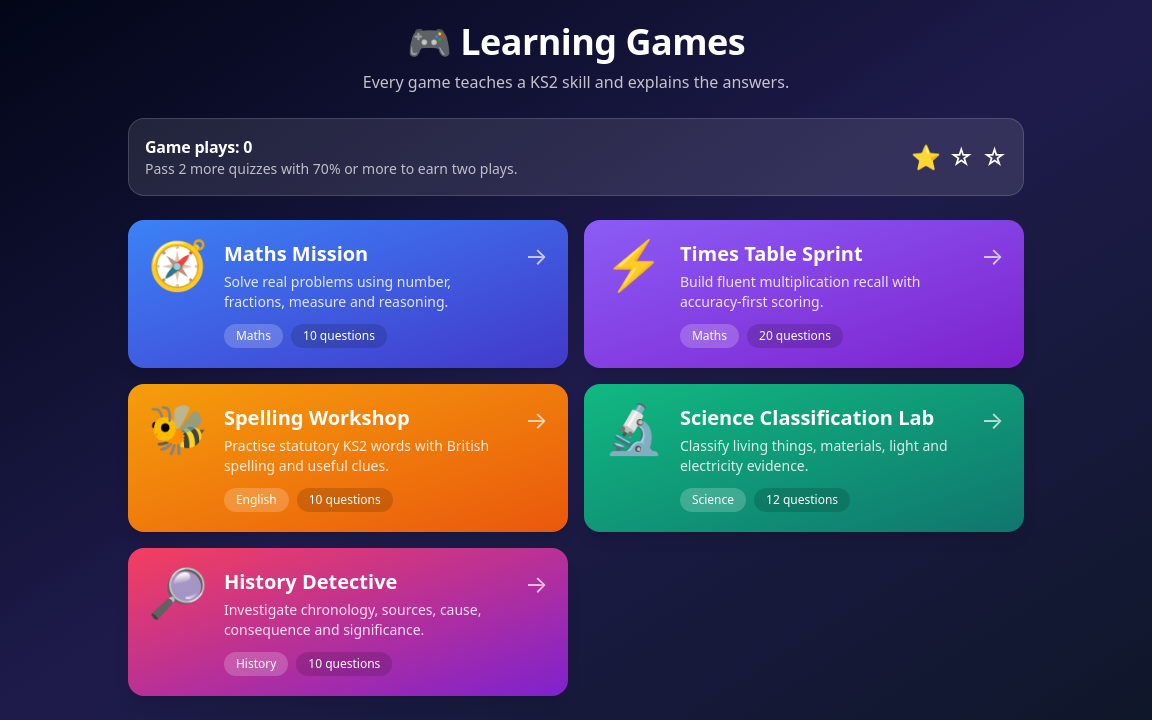
Test: MiniGames › lets locked learners inspect games but disables starting them
(page scrolled)
Click the button with aria-label "History Detective, History": point(348, 622) [128, 548, 568, 696]
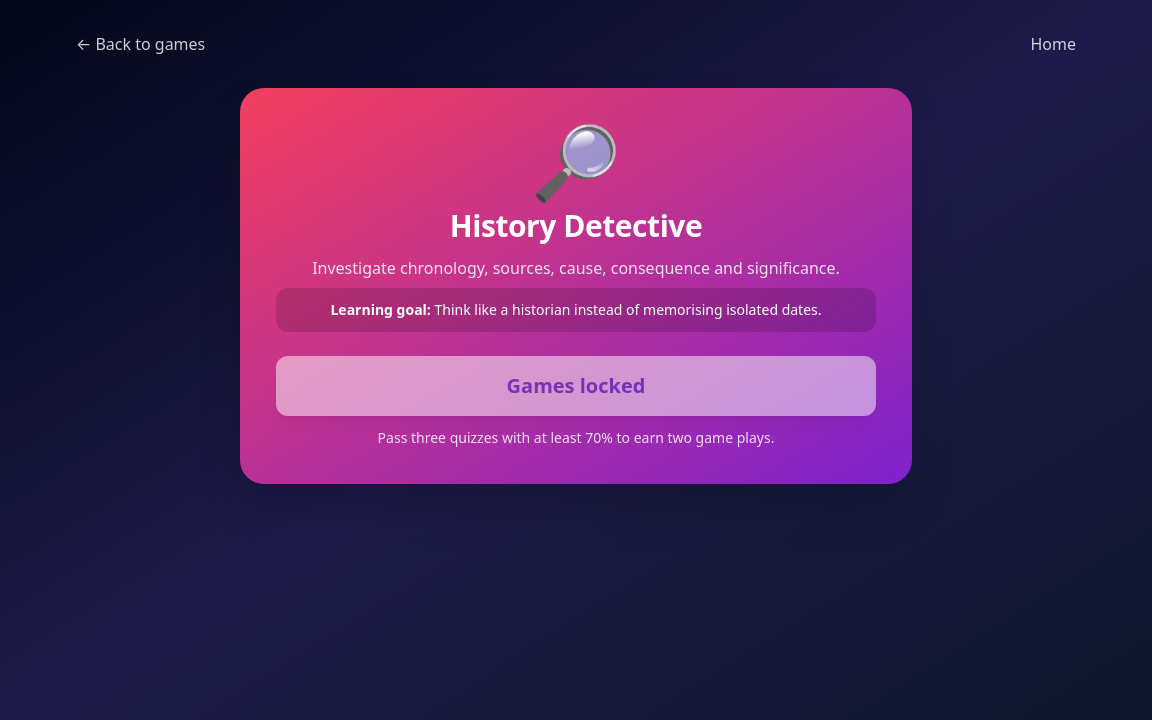
Expected: the button "Games locked" is disabled, [276, 356, 876, 416]
Expected: the text "Pass three quizzes with at least 70% to earn two game plays." is shown, [378, 428, 774, 447]
